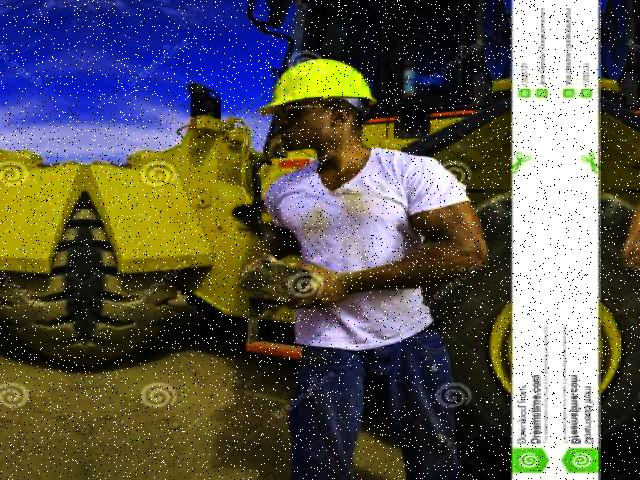Helmet: (257, 53, 377, 120)
